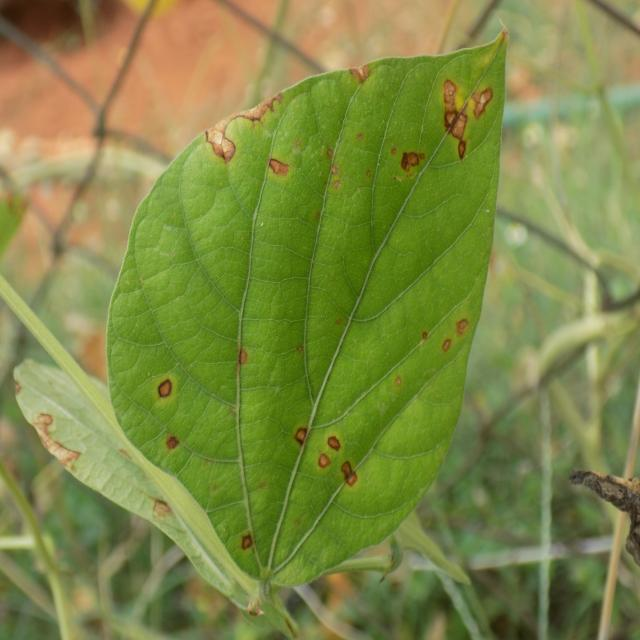Dolicos bean_cercospora leaf spot: (108, 27, 507, 596)
